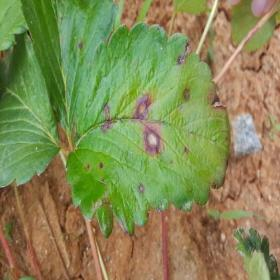Leaf Spot: (65, 21, 232, 240), (20, 0, 119, 140)
